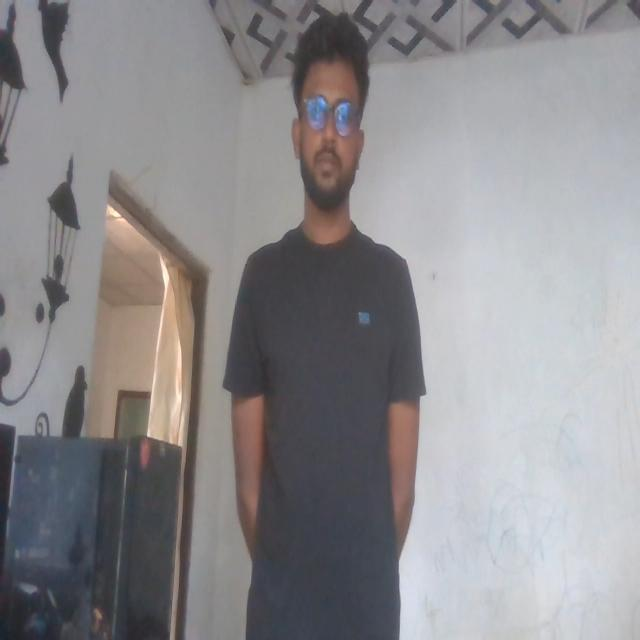Person: (231, 19, 426, 640)
